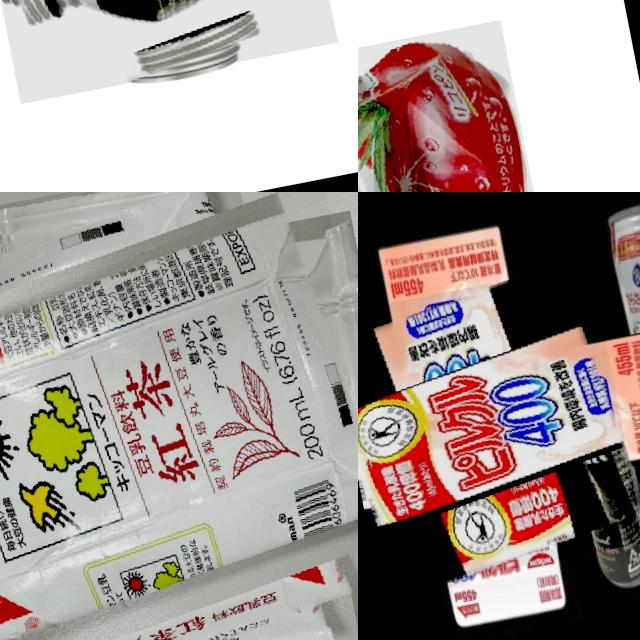Aluminium Foil: (0, 192, 358, 640), (358, 264, 640, 594)
Can: (358, 20, 569, 192), (0, 0, 338, 104), (550, 379, 640, 584), (600, 192, 640, 466)
